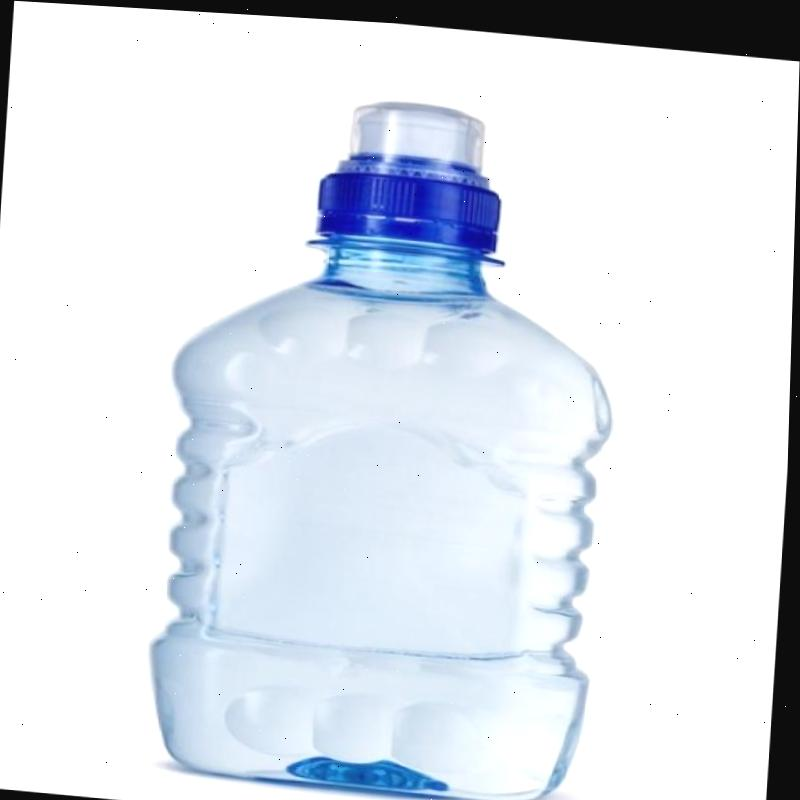botella: (147, 76, 635, 800)
